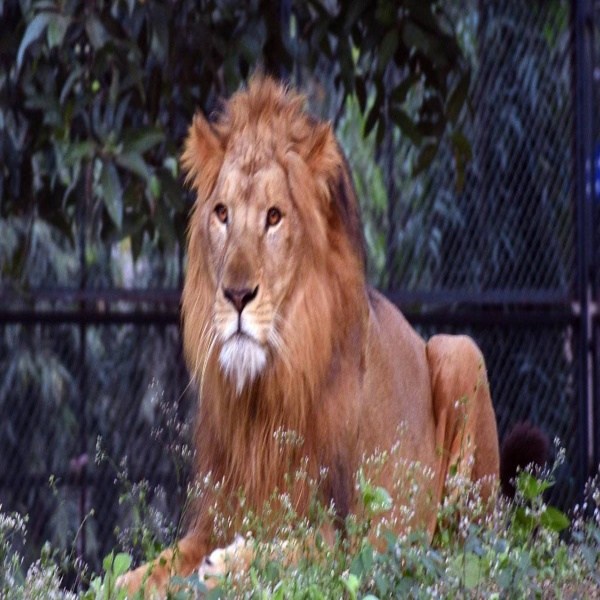Lion: (101, 74, 503, 599)
